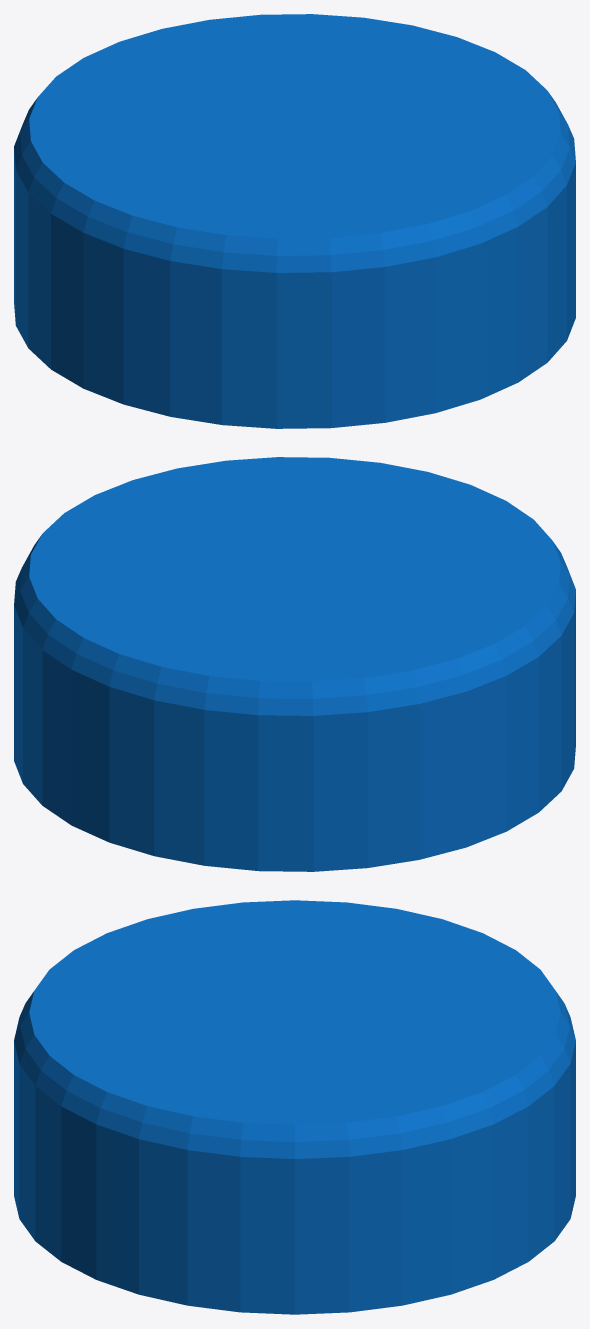
3 renders of one model, top to bottom at view 1: azimuth 30°, elevation 25°; view 2: azimuth 150°, elevation 25°; view 3: azimuth 270°, elevation 25°, orthographic.
Parts seen in each view (by area): view 1: base_visual; view 2: base_visual; view 3: base_visual.
Boxes of the visible parts, x1,y1,x2,y2 form: base_visual: (14,14,575,428); base_visual: (14,457,575,871); base_visual: (14,900,575,1314).
Bounding box in the file's own units: 2.5 × 2.5 × 0.9.
